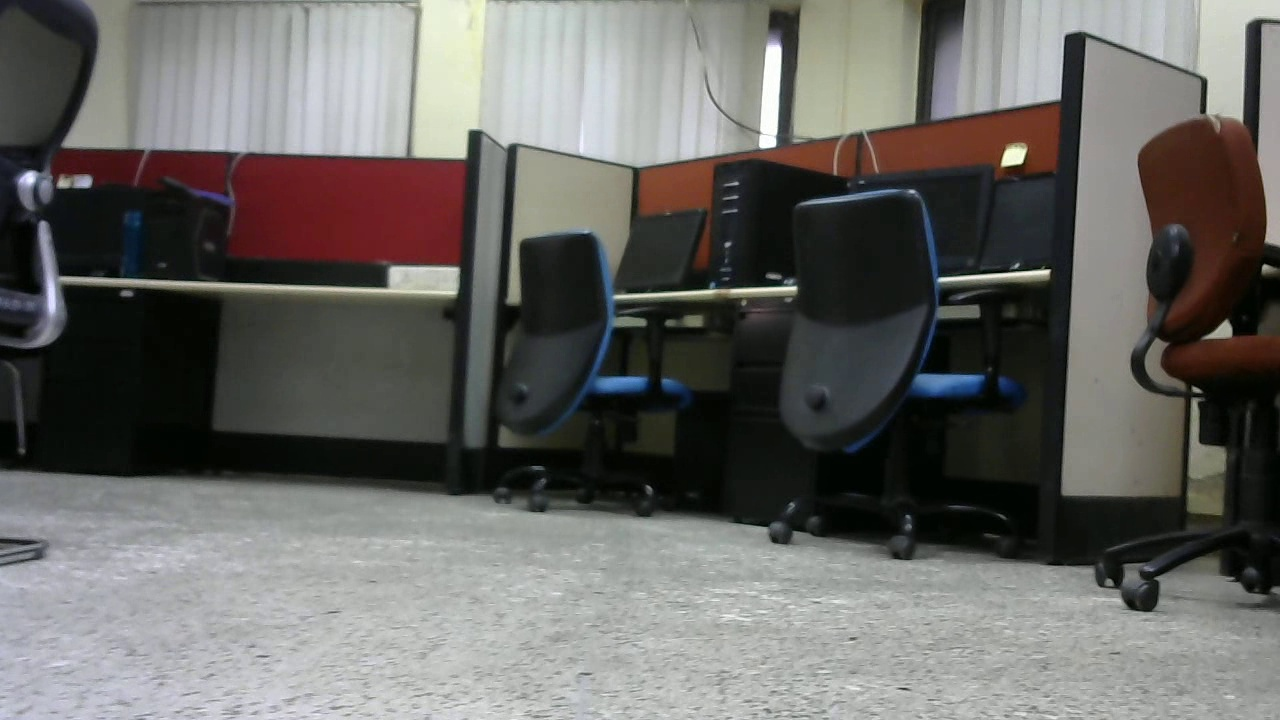chair: (776, 181, 1014, 555), (1103, 112, 1280, 610), (493, 231, 701, 518)
